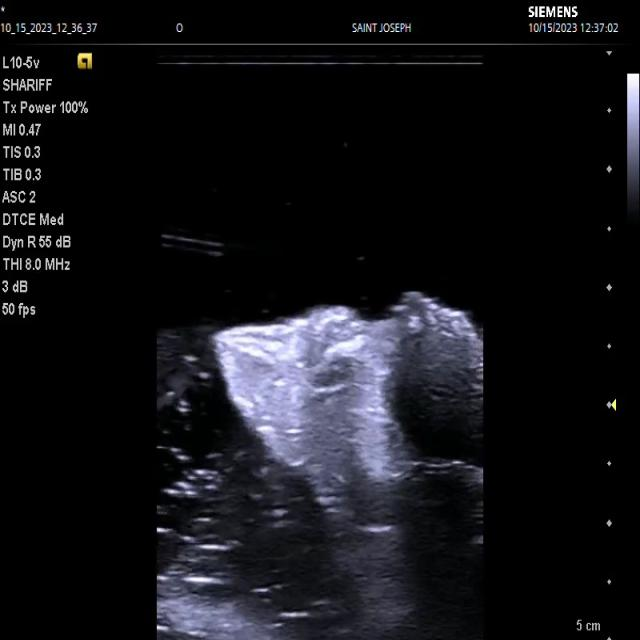tissue: (212, 306, 486, 640), (402, 292, 483, 393)
